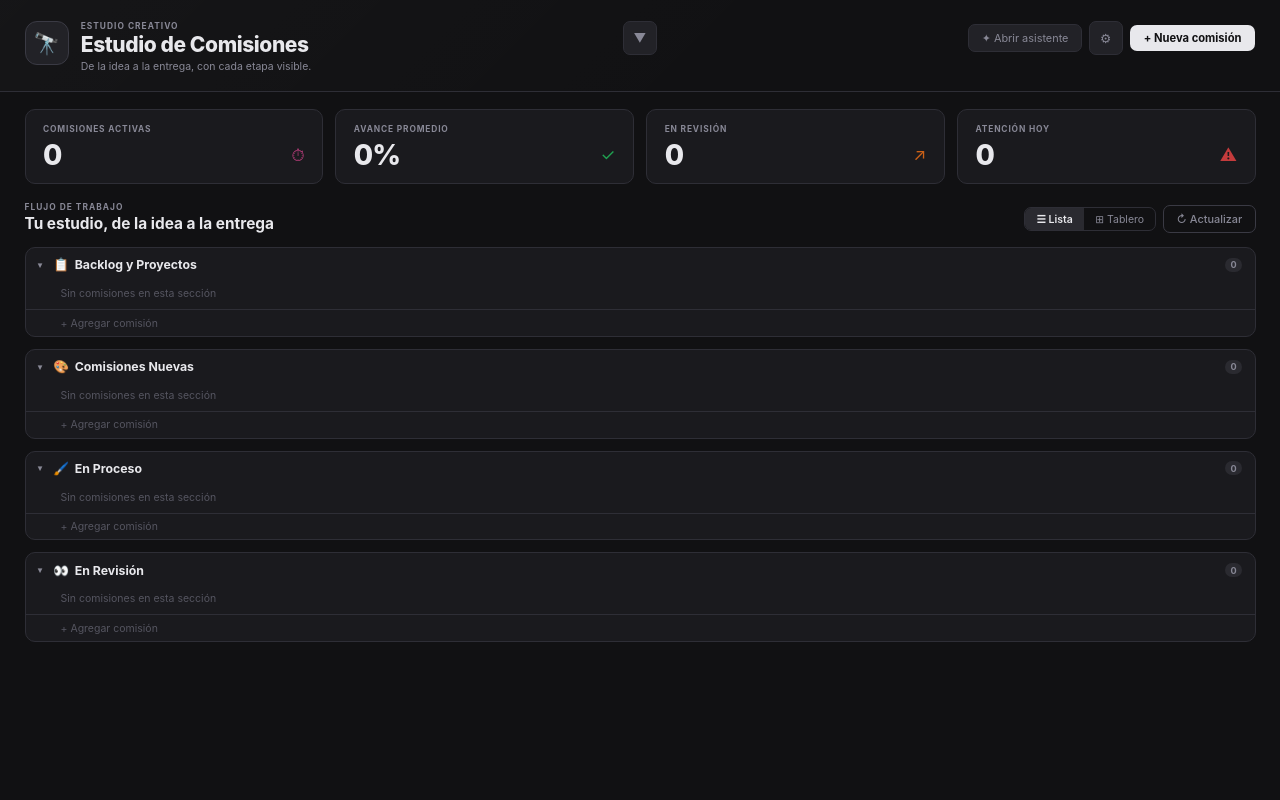
Test: Bug 2 Preservation — Default view and in-page switch › clicking "Tablero" renders KanbanBoard; clicking "Lista" re-renders WorkflowBoard
// Switch to board view
Click the button "⊞ Tablero" at {"x": 1120, "y": 219}, box 1084,208 -> 1155,230
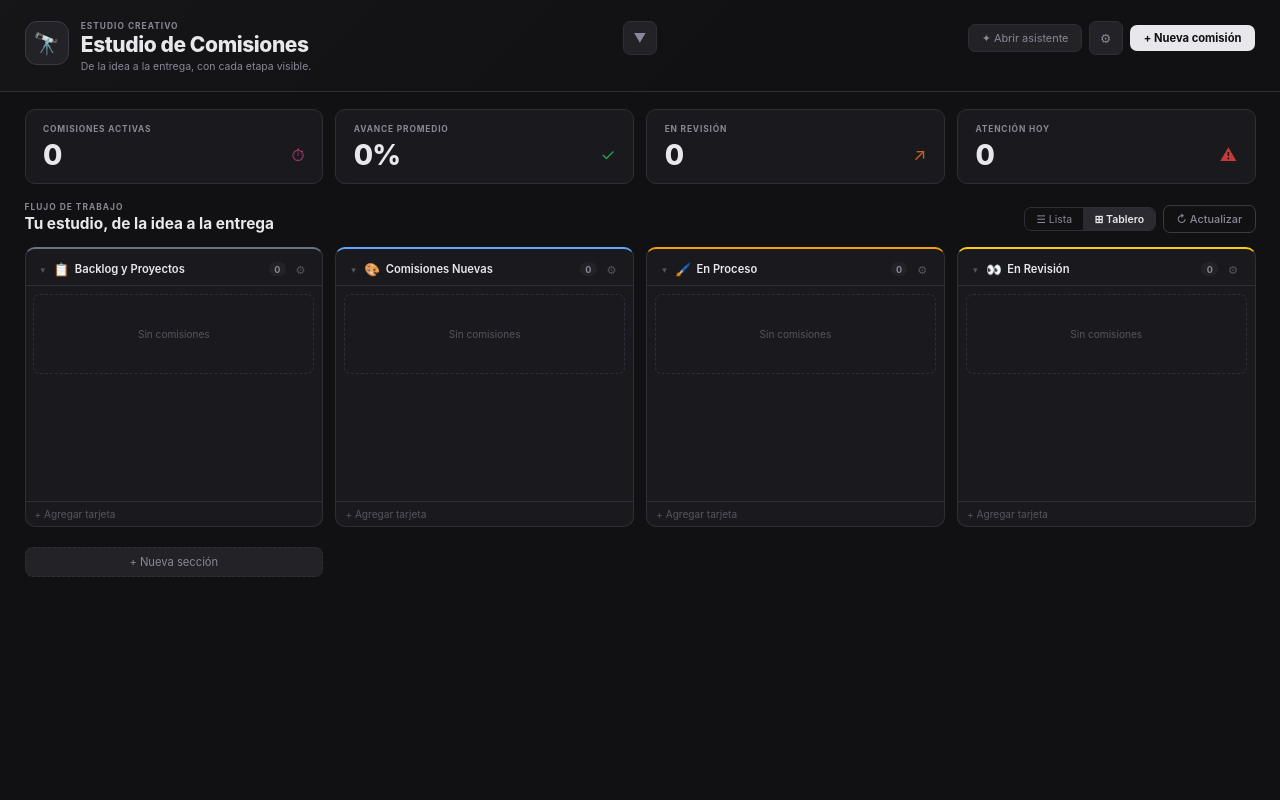
expect the element with class "kanban-board" is shown: met, box 24,247 -> 1256,577
expect the element with class "wf-board" is gone: met
// Switch back to list view
Click the button "☰ Lista" at {"x": 1054, "y": 219}, box 1025,208 -> 1084,230
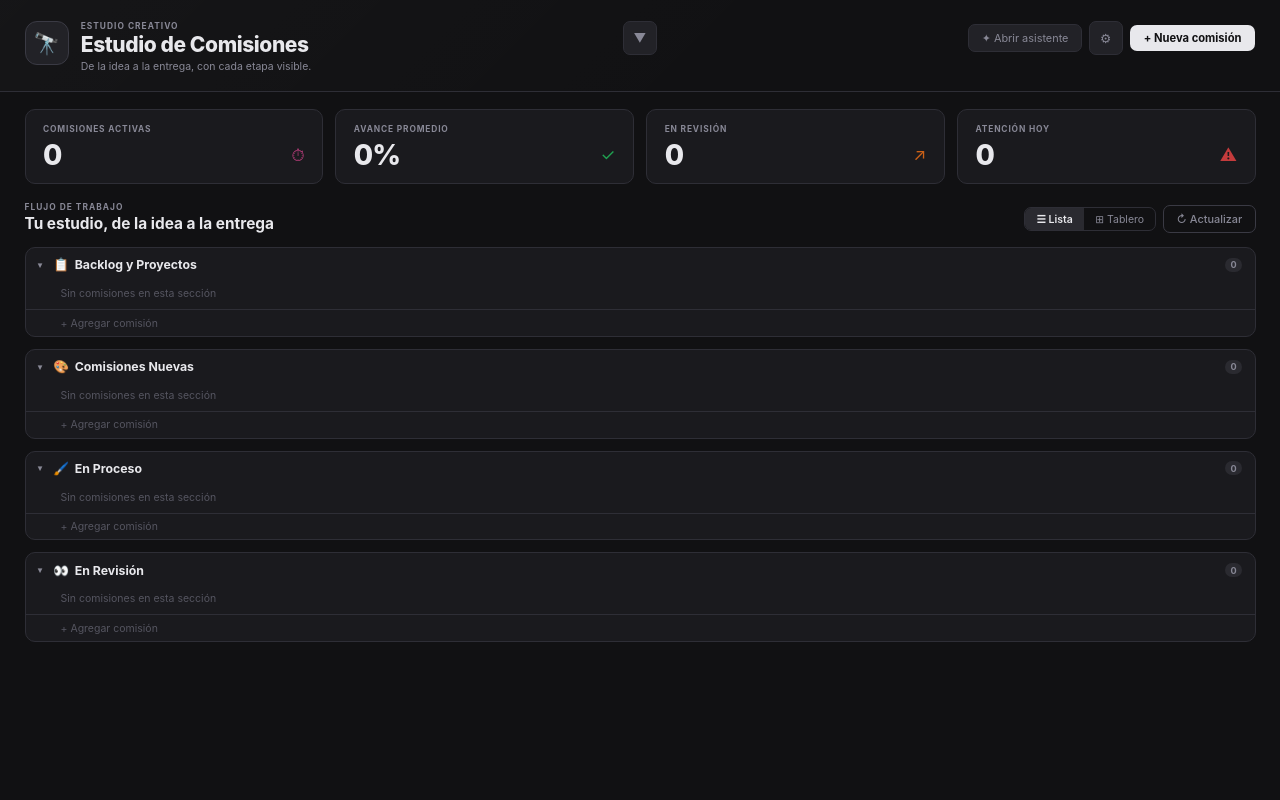
expect the element with class "wf-board" is shown: met, box 24,247 -> 1256,642
expect the element with class "kanban-board" is gone: met
